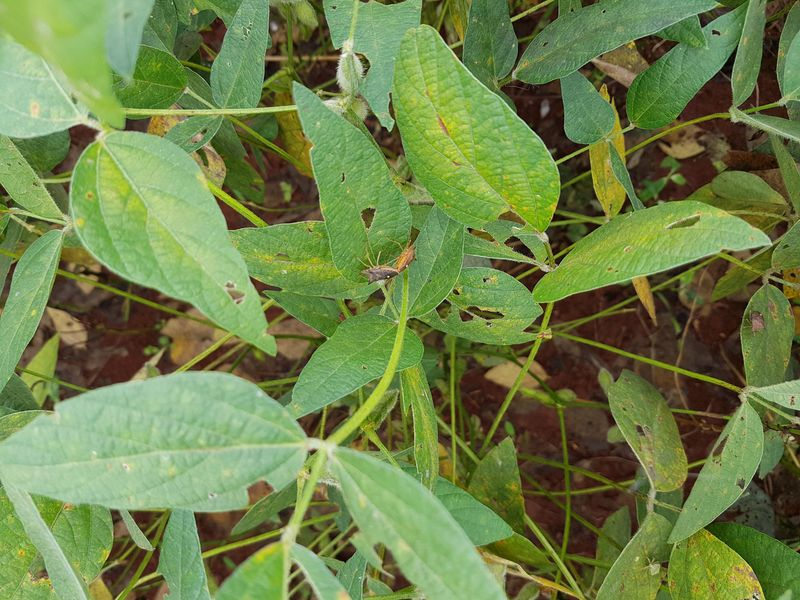Euschistus_heros_adulto: (349, 244, 398, 289), (398, 238, 421, 281), (743, 307, 771, 340)
Euschistus_heros_ninfa: (640, 554, 665, 581)
